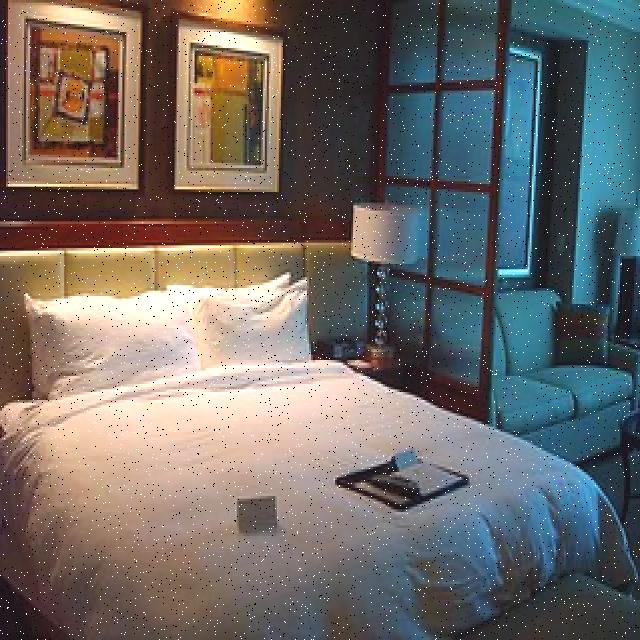bed: (0, 256, 592, 640)
